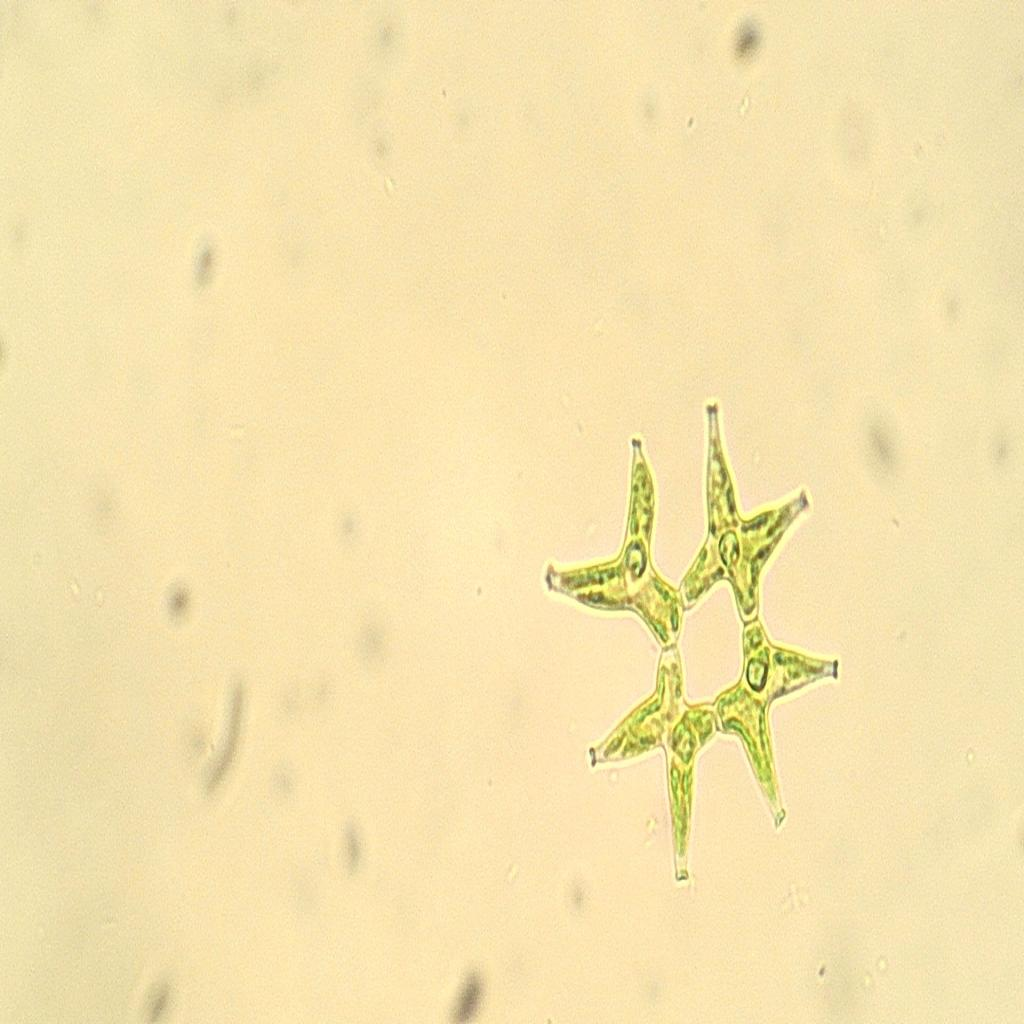Pediastrum_CT: (530, 386, 855, 908)
